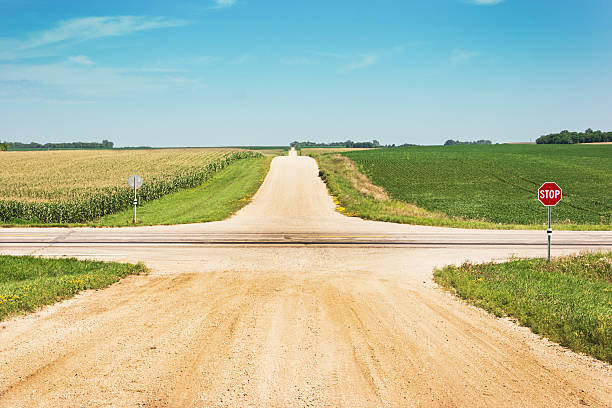StopSign: (537, 182, 561, 206)
